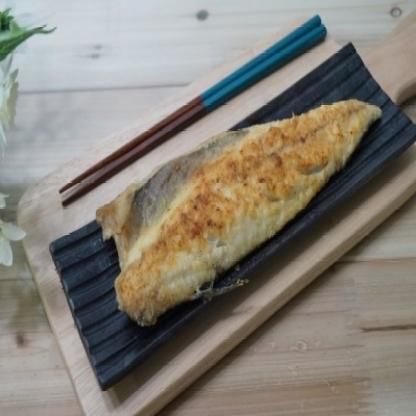Peixe: (88, 87, 386, 344)
